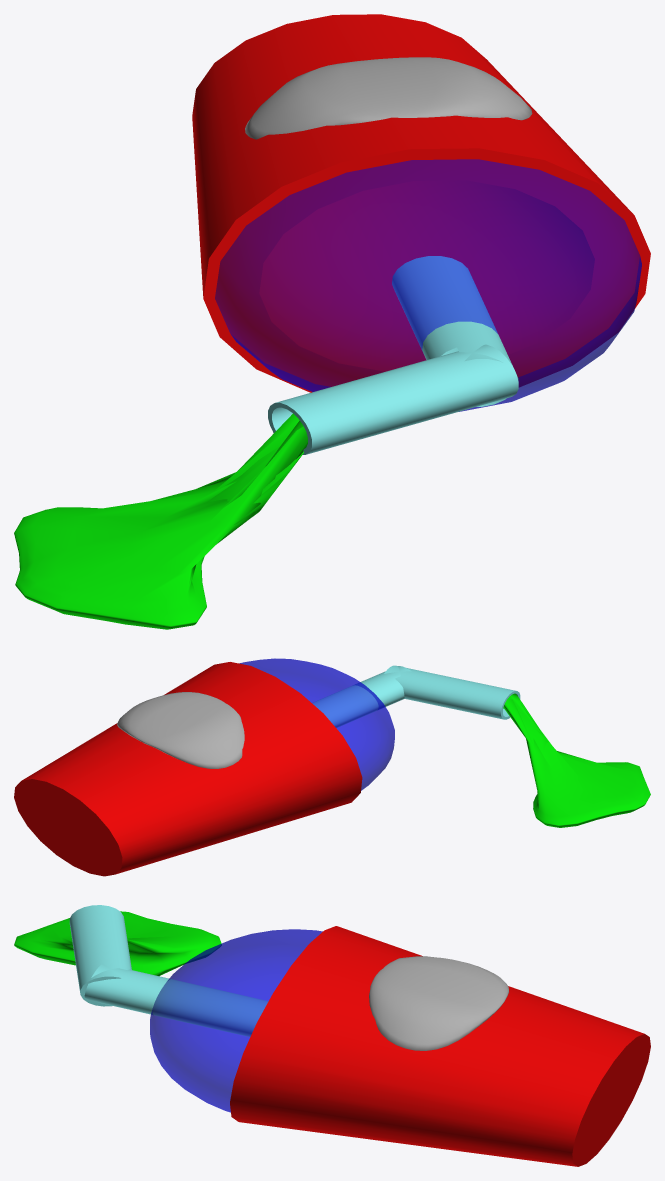
Rendered from gross cup with weird goo.fbx.
The picture shows the model from 3 angles, top to bottom: view 1: azimuth 30°, elevation 25°; view 2: azimuth 150°, elevation 25°; view 3: azimuth 270°, elevation 25°; orthographic projection. The views are drawn at different scales.
Parts seen in each view (by area): view 1: pasted__polySurface4; view 2: pasted__polySurface4; view 3: pasted__polySurface4.
Boxes of the visible parts, bbox=[...] form: pasted__polySurface4: bbox=[14, 14, 650, 629]; pasted__polySurface4: bbox=[14, 658, 650, 876]; pasted__polySurface4: bbox=[14, 905, 650, 1166].
Size of the model in its own units: 1.66 by 0.4571 by 1.64.
